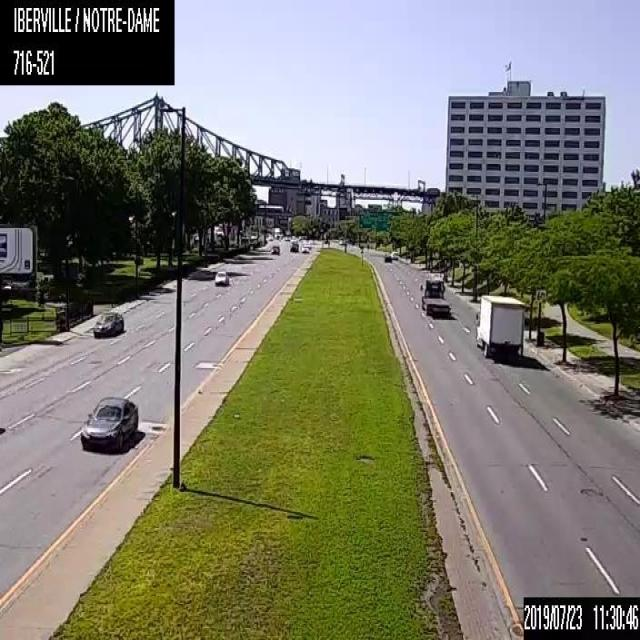vehicle: (78, 394, 138, 450), (474, 292, 524, 359), (419, 273, 450, 317), (92, 310, 124, 338), (214, 270, 229, 286), (289, 241, 298, 251), (270, 244, 279, 253), (390, 250, 398, 258), (300, 244, 308, 252), (384, 254, 391, 261), (338, 238, 344, 244)
